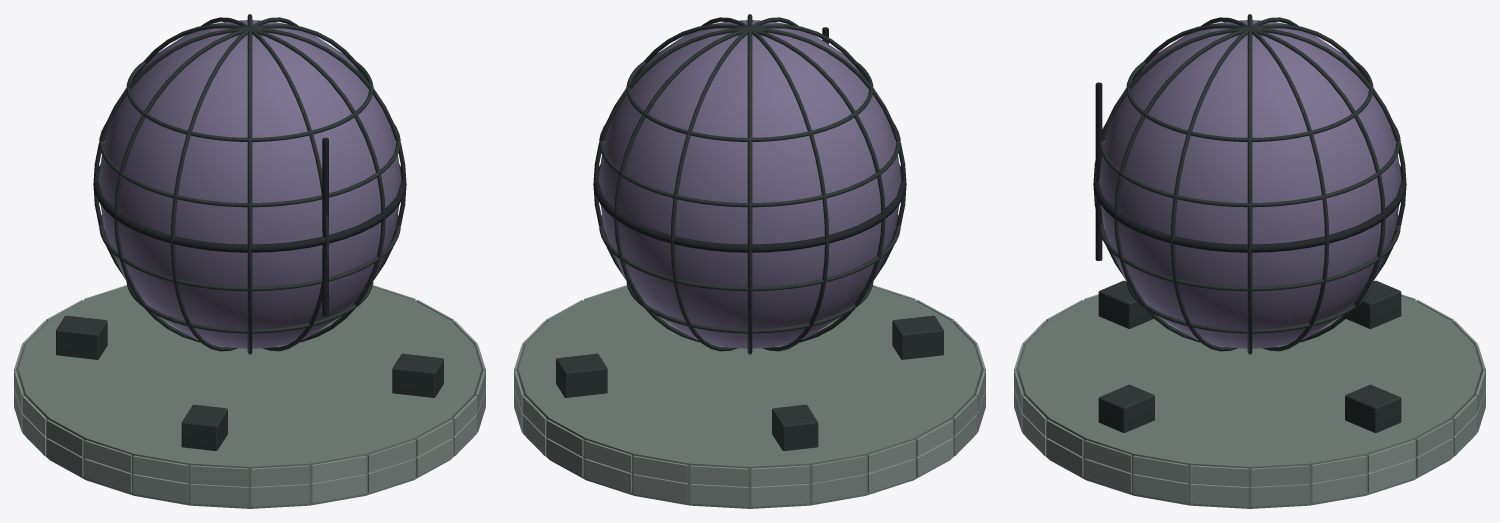
3 renders of one model, left to right at view 1: azimuth 30°, elevation 25°; view 2: azimuth 150°, elevation 25°; view 3: azimuth 270°, elevation 25°, orthographic.
Visible parts, largest first — view 1: Central segmented field orb, Foundation drum, Orb foundation armour, Field orb equator seam, Field regulator cabinet.001, Field regulator cabinet.003, Field orb panel meridian.008, Field regulator cabinet.002, Field orb panel meridian.010, Field orb panel meridian.006, Field orb panel meridian.007, Field orb latitude joint.002 (+9 smaller); view 2: Central segmented field orb, Foundation drum, Orb foundation armour, Field orb equator seam, Field regulator cabinet, Field regulator cabinet.002, Field orb panel meridian.004, Field regulator cabinet.001, Field orb panel meridian.002, Field orb panel meridian.006, Field orb panel meridian.005, Field orb panel meridian.003 (+8 smaller); view 3: Central segmented field orb, Foundation drum, Orb foundation armour, Field orb equator seam, Field regulator cabinet, Field regulator cabinet.003, Field orb panel meridian, Field orb panel meridian.002, Field orb panel meridian.010, Field orb panel meridian.001, Field orb panel meridian.011, Field orb latitude joint.002 (+10 smaller).
Part boxes in pixels (x1=…): Central segmented field orb: x1=98, y1=20, x2=401, y2=348; Foundation drum: x1=18, y1=286, x2=481, y2=508; Orb foundation armour: x1=14, y1=285, x2=485, y2=506; Field orb equator seam: x1=93, y1=164, x2=406, y2=252; Field regulator cabinet.001: x1=56, y1=315, x2=107, y2=359; Field regulator cabinet.003: x1=392, y1=353, x2=443, y2=397; Field orb panel meridian.008: x1=247, y1=28, x2=252, y2=354; Field regulator cabinet.002: x1=181, y1=404, x2=227, y2=450; Field orb panel meridian.010: x1=251, y1=27, x2=385, y2=342; Field orb panel meridian.006: x1=114, y1=27, x2=248, y2=342; Field orb panel meridian.007: x1=170, y1=27, x2=249, y2=351; Field orb latitude joint.002: x1=99, y1=125, x2=400, y2=207; Central segmented field orb: x1=598, y1=20, x2=901, y2=348; Foundation drum: x1=518, y1=286, x2=981, y2=508; Orb foundation armour: x1=514, y1=285, x2=985, y2=506; Field orb equator seam: x1=593, y1=164, x2=906, y2=252; Field regulator cabinet: x1=556, y1=353, x2=607, y2=397; Field regulator cabinet.002: x1=892, y1=315, x2=943, y2=359; Field orb panel meridian.004: x1=747, y1=28, x2=752, y2=354; Field regulator cabinet.001: x1=772, y1=404, x2=818, y2=450; Field orb panel meridian.002: x1=614, y1=27, x2=748, y2=342; Field orb panel meridian.006: x1=751, y1=27, x2=885, y2=342; Field orb panel meridian.005: x1=750, y1=27, x2=829, y2=351; Field orb panel meridian.003: x1=670, y1=27, x2=749, y2=351; Central segmented field orb: x1=1099, y1=20, x2=1401, y2=348; Foundation drum: x1=1018, y1=296, x2=1481, y2=508; Orb foundation armour: x1=1014, y1=294, x2=1485, y2=506; Field orb equator seam: x1=1093, y1=164, x2=1406, y2=252; Field regulator cabinet: x1=1345, y1=384, x2=1401, y2=432; Field regulator cabinet.003: x1=1098, y1=384, x2=1154, y2=432; Field orb panel meridian: x1=1247, y1=28, x2=1252, y2=354; Field orb panel meridian.002: x1=1251, y1=27, x2=1385, y2=342; Field orb panel meridian.010: x1=1114, y1=27, x2=1248, y2=342; Field orb panel meridian.001: x1=1250, y1=27, x2=1329, y2=351; Field orb panel meridian.011: x1=1170, y1=27, x2=1249, y2=351; Field orb latitude joint.002: x1=1099, y1=125, x2=1400, y2=207.
Size of the model in its own units: 2.55 by 2.28 by 2.55.
